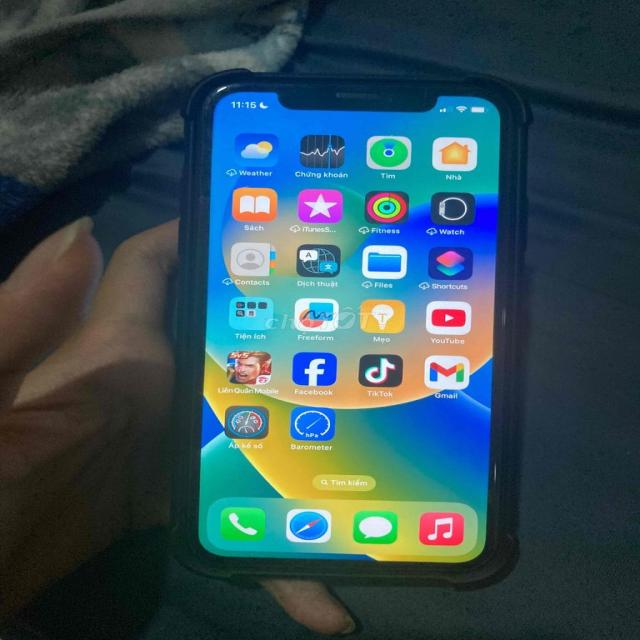gen_11: (176, 72, 525, 583)
